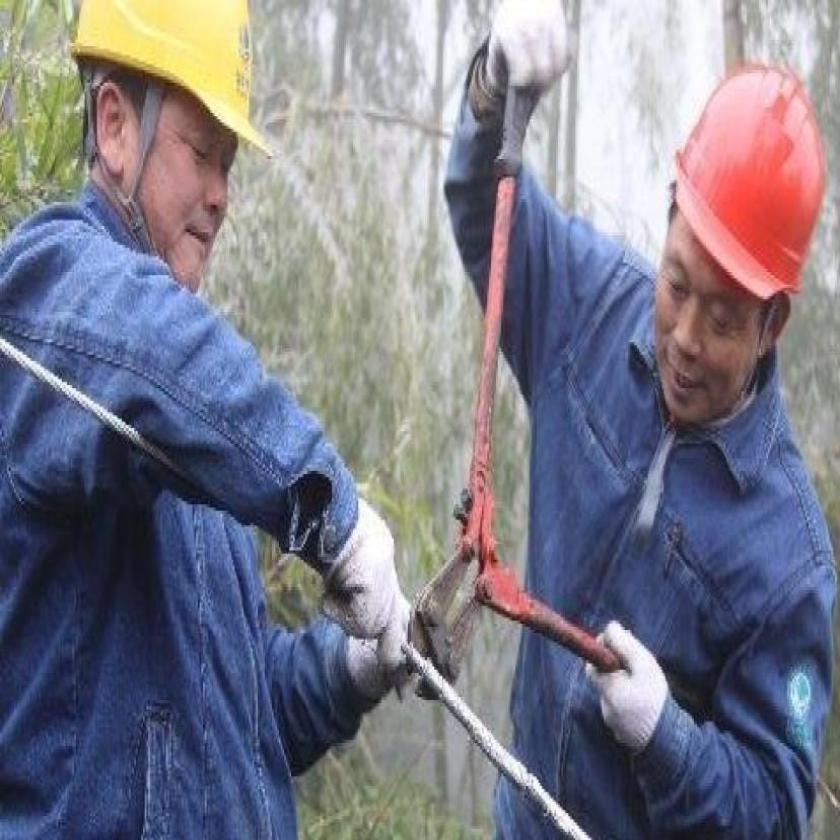Con_casco: (644, 59, 826, 448), (70, 0, 262, 299)
